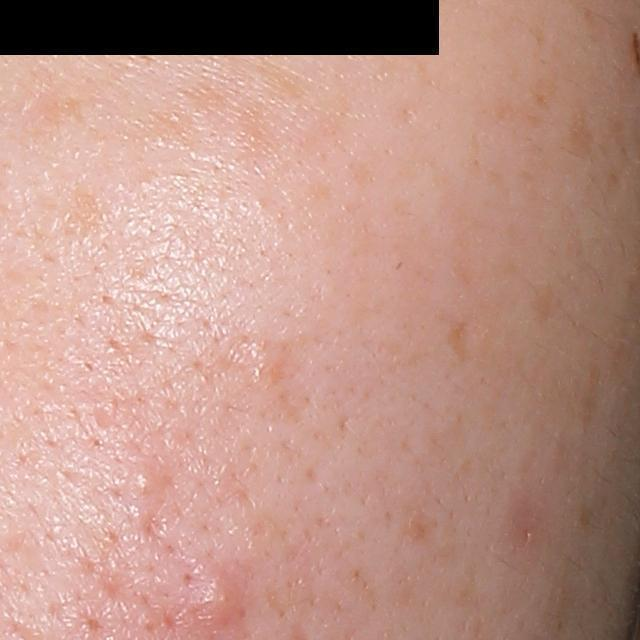comedo: (131, 467, 161, 498)
melasma: (249, 51, 309, 105), (30, 93, 94, 133), (173, 82, 230, 124), (67, 187, 109, 238), (563, 101, 597, 159), (446, 317, 470, 363)
papule: (191, 572, 247, 628)
